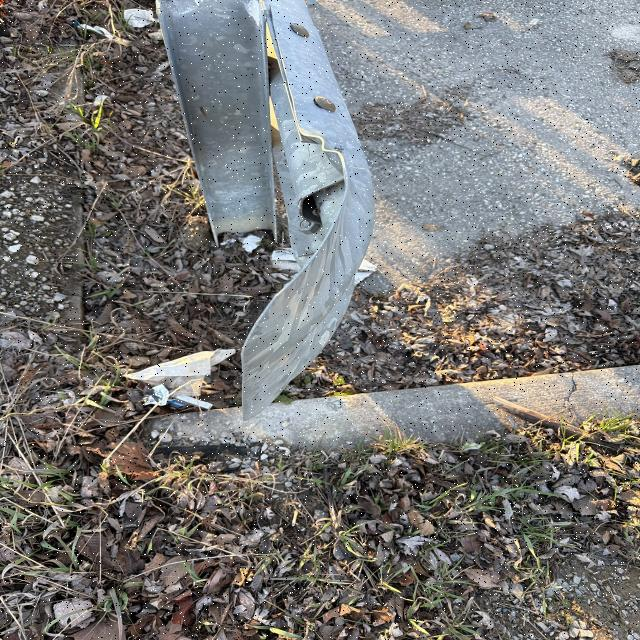Guard rail: (172, 4, 376, 382)
